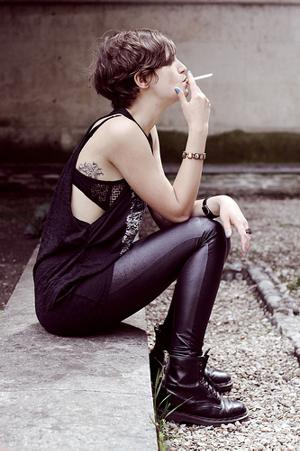person: (33, 23, 250, 426)
